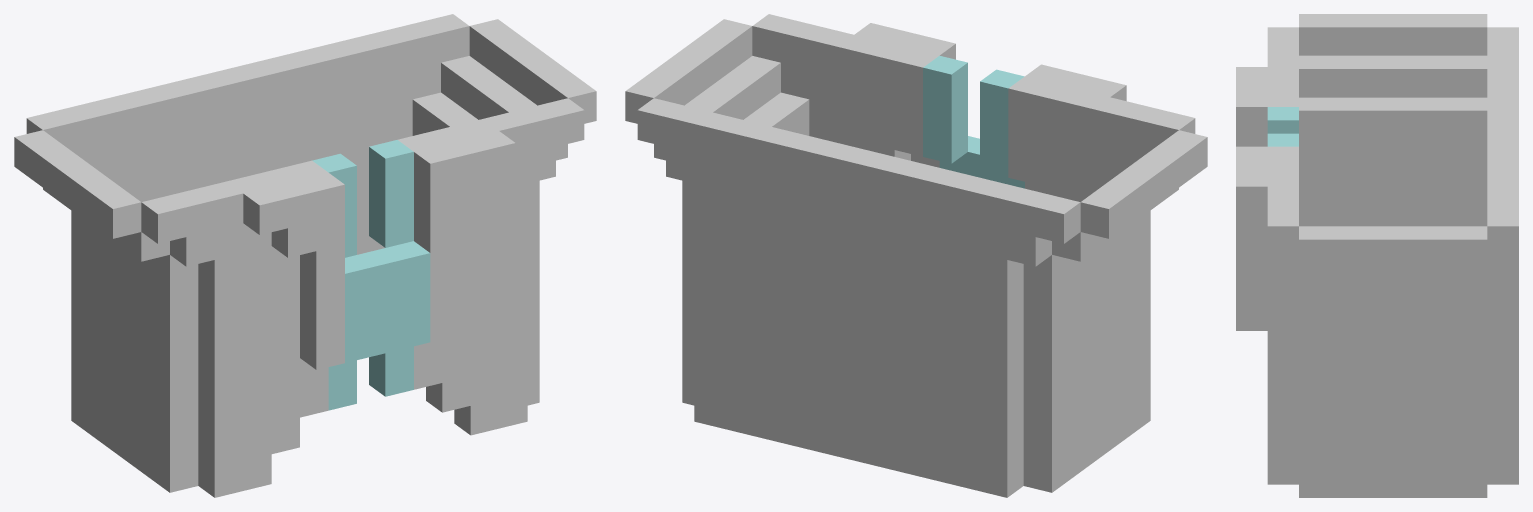
File: accessories_clothes_labcoat.glb
3 views of the same model, side by side, from view 1: azimuth 30°, elevation 25°; view 2: azimuth 150°, elevation 25°; view 3: azimuth 270°, elevation 25° (orthographic). The views are drawn at different scales.
Parts seen in each view (by area): view 1: model_0; view 2: model_0; view 3: model_0.
Boxes of the visible parts, x1,y1,x2,y2 form: model_0: [14, 14, 596, 497]; model_0: [625, 14, 1207, 497]; model_0: [1236, 14, 1518, 497].
Bounding box in the file's own units: 17 × 10 × 9.
